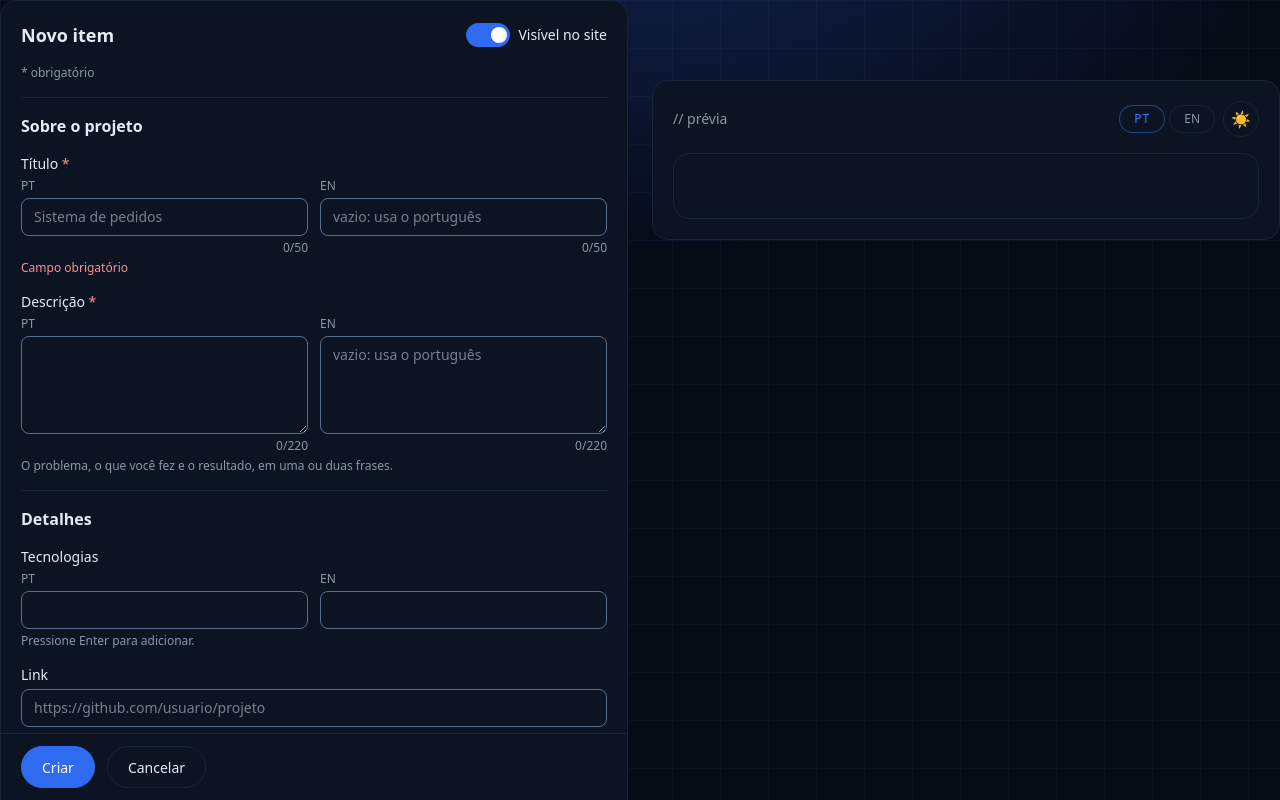
formulário a partir do modelo › ao sair de um obrigatório vazio, o erro aparece na hora (sem esperar o servidor)
The image size is (1280, 800).
Earlier steps of the test are not shown.
Expected: the text "Campo obrigatório" is shown, [21, 259, 128, 276]
Type "Novo" into the field named "Título em português". click: (164, 217)
box: [21, 198, 308, 236]
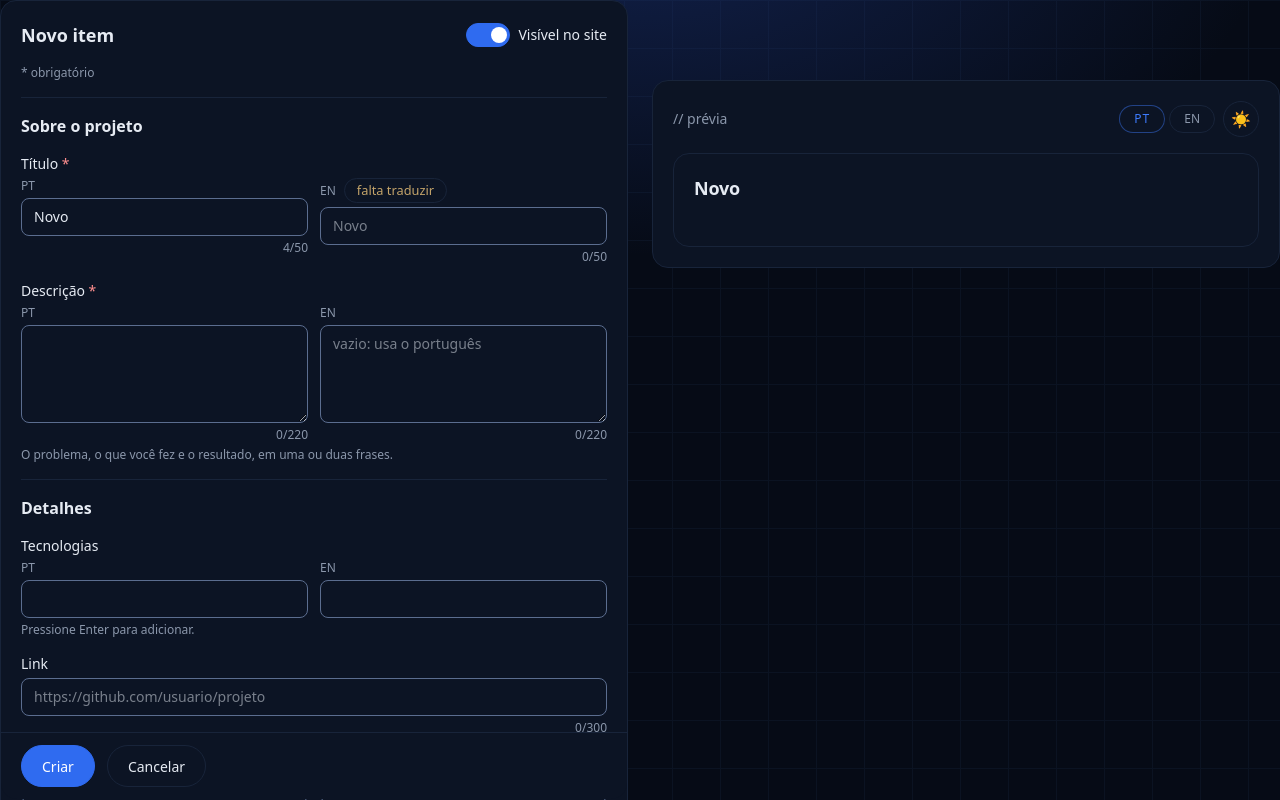
Now the text "Campo obrigatório" is gone
